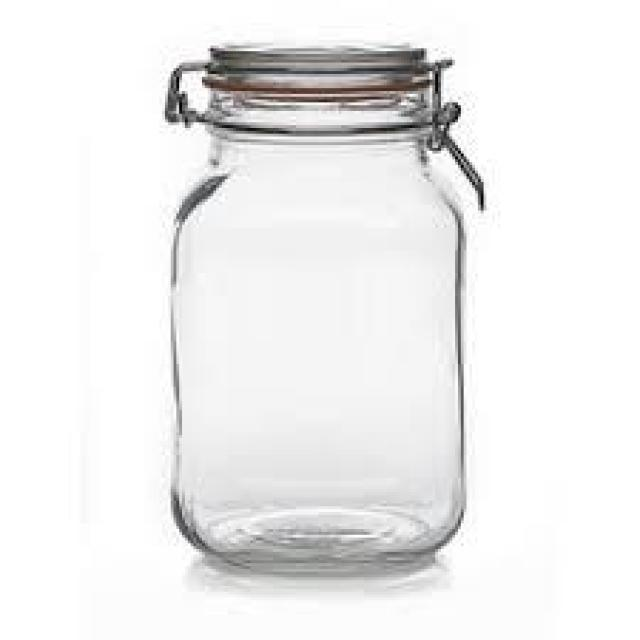Glass: (162, 39, 487, 580)
